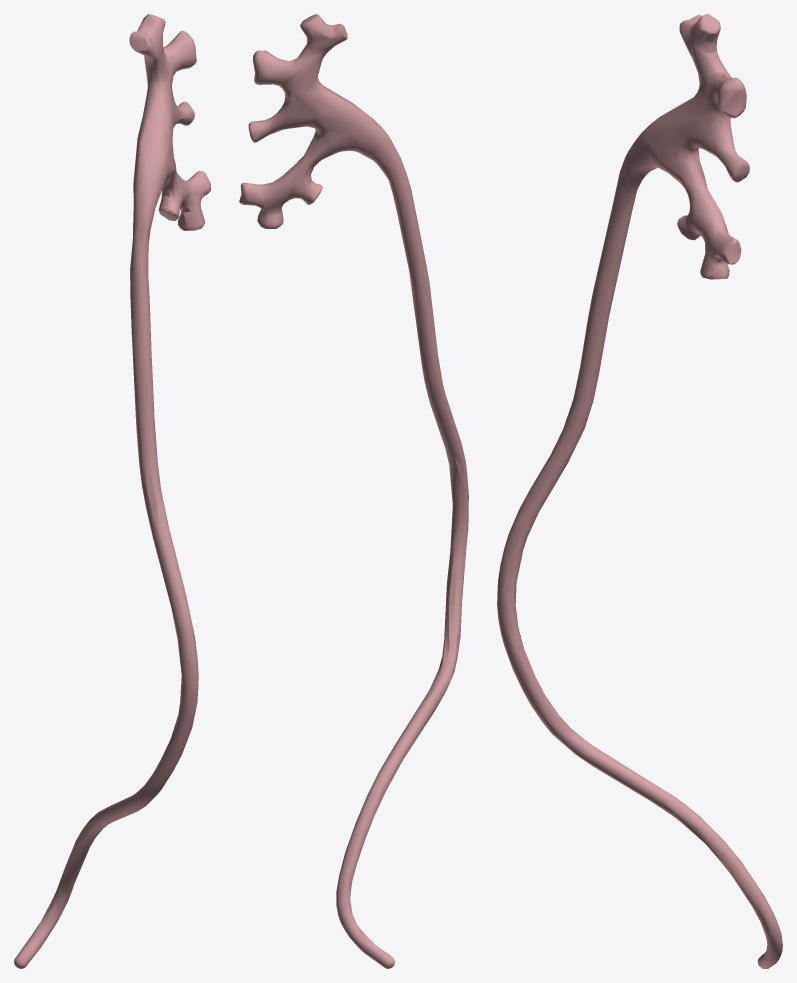
The model's file is fma15572.glb.
The picture shows the model from 3 angles, left to right: view 1: azimuth 30°, elevation 25°; view 2: azimuth 150°, elevation 25°; view 3: azimuth 270°, elevation 25°; orthographic projection. The views are drawn at different scales.
Parts seen in each view (by area): view 1: FMA15572; view 2: FMA15572; view 3: FMA15572.
Boxes of the visible parts, left/top/right/bottom form: FMA15572: left=14, top=14, right=210, bottom=968; FMA15572: left=239, top=14, right=468, bottom=968; FMA15572: left=497, top=14, right=782, bottom=968.
Size of the model in its own units: 0.0562 by 0.2866 by 0.0737.
